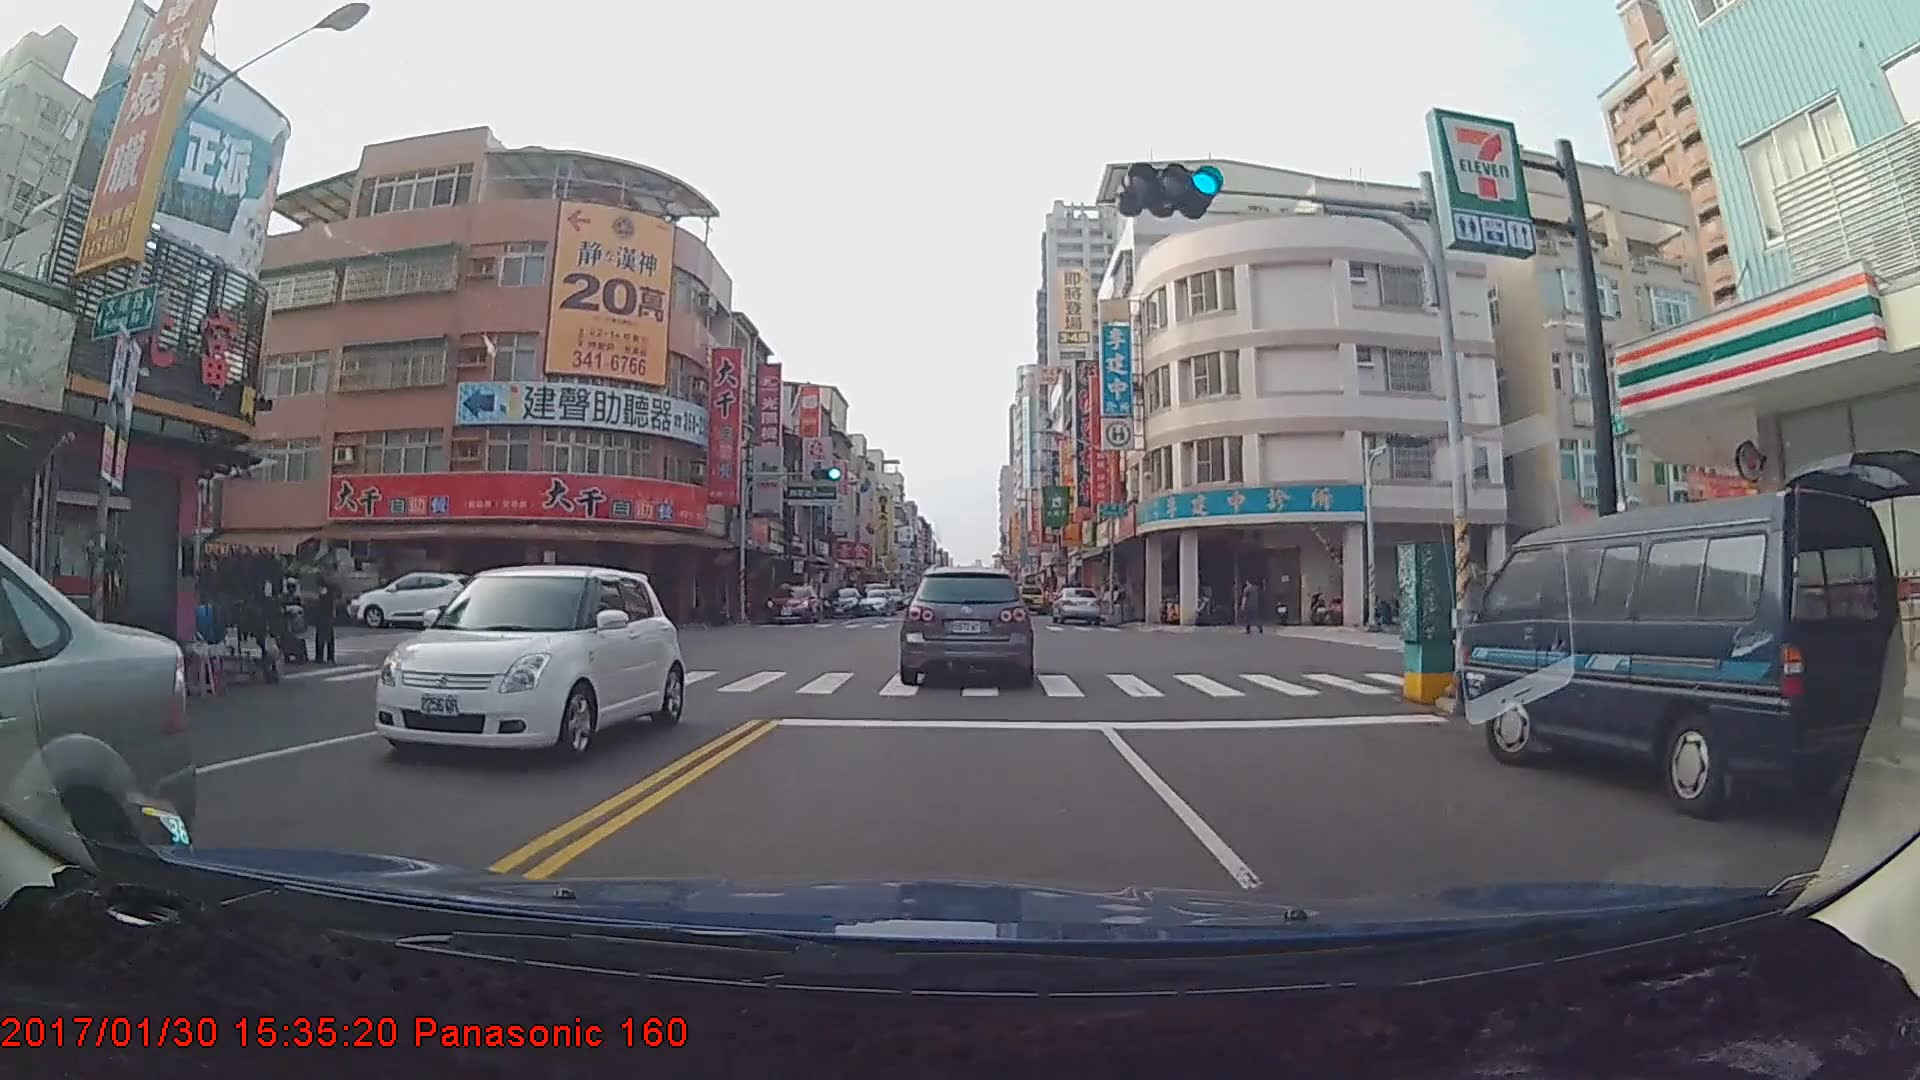pedestrian: (312, 581, 342, 668), (1240, 577, 1264, 636)
rider: (272, 571, 308, 664)
vehicle: (1453, 486, 1905, 820), (0, 505, 199, 946), (371, 560, 683, 762), (900, 565, 1034, 687), (347, 570, 486, 631), (766, 581, 817, 624), (1050, 586, 1102, 627), (822, 586, 863, 616), (1010, 581, 1045, 616), (856, 590, 895, 618)
